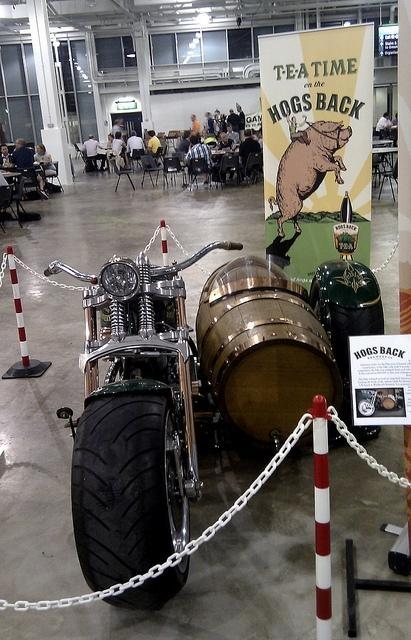motorcycle: (48, 240, 248, 611)
